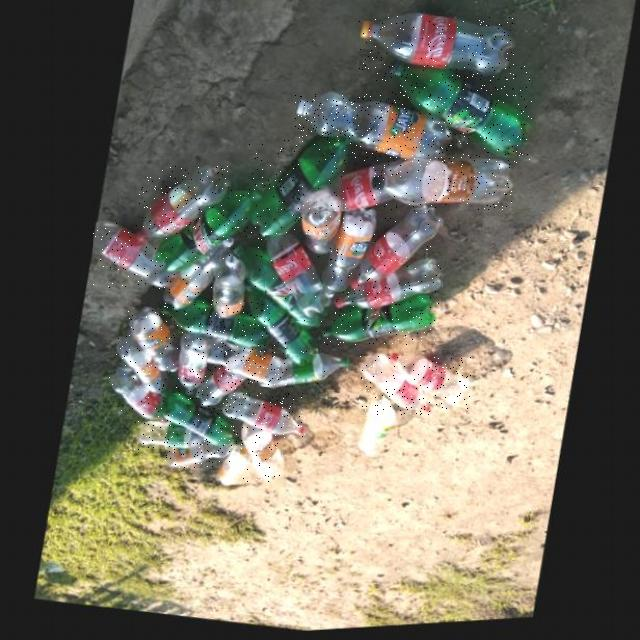plastic: (389, 66, 532, 163), (296, 94, 453, 165), (359, 16, 514, 81), (249, 140, 349, 240), (154, 190, 262, 274), (350, 209, 442, 293), (137, 167, 229, 242), (370, 162, 512, 210), (247, 281, 315, 369), (265, 236, 328, 321), (161, 302, 270, 350), (322, 300, 435, 346), (335, 265, 441, 313), (320, 212, 377, 301), (93, 222, 165, 289), (163, 241, 233, 309), (191, 339, 287, 387), (157, 394, 241, 447), (389, 357, 471, 410), (359, 357, 430, 416), (221, 393, 305, 439), (128, 307, 177, 374), (117, 333, 169, 395), (259, 355, 348, 391), (300, 190, 342, 259), (108, 368, 161, 419), (210, 251, 247, 320), (240, 425, 282, 482), (196, 367, 246, 408), (134, 422, 203, 450), (177, 335, 207, 397), (165, 444, 231, 468)
